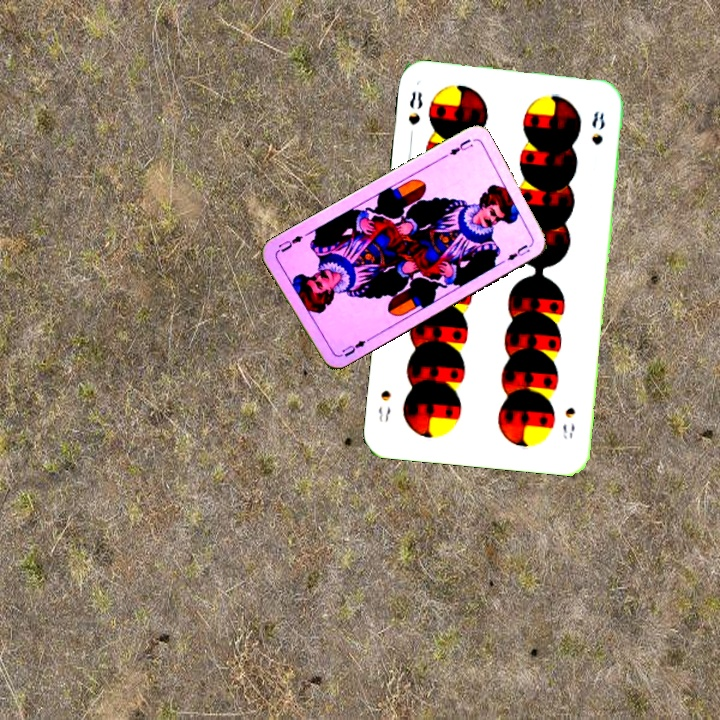EU: (338, 335, 371, 359), (445, 135, 476, 158)
S8: (404, 87, 425, 127), (558, 403, 578, 441)
